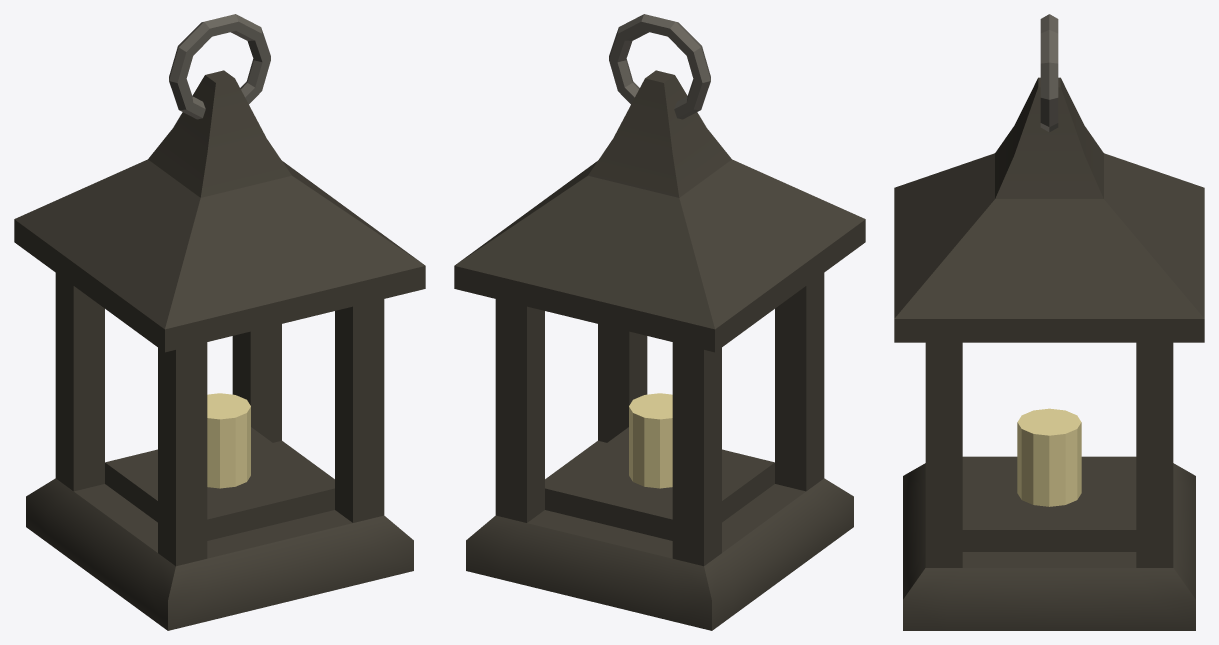
File: Lantern.fbx
3 views of the same model, side by side, from view 1: azimuth 30°, elevation 25°; view 2: azimuth 150°, elevation 25°; view 3: azimuth 270°, elevation 25° (orthographic). The views are drawn at different scales.
Parts seen in each view (by area): view 1: Lantern_base, Lantern_Ring, Candle; view 2: Lantern_base, Lantern_Ring, Candle; view 3: Lantern_base, Candle, Lantern_Ring.
Boxes of the visible parts, left/top/right/bottom form: Lantern_base: left=14, top=70, right=425, bottom=630; Lantern_Ring: left=169, top=14, right=270, bottom=119; Candle: left=207, top=393, right=250, bottom=488; Lantern_base: left=454, top=70, right=865, bottom=630; Lantern_Ring: left=609, top=14, right=710, bottom=119; Candle: left=629, top=393, right=672, bottom=488; Lantern_base: left=894, top=77, right=1204, bottom=630; Candle: left=1017, top=408, right=1081, bottom=506; Lantern_Ring: left=1040, top=14, right=1058, bottom=132.
Size of the model in its own units: 1.42 by 2.76 by 1.42.
